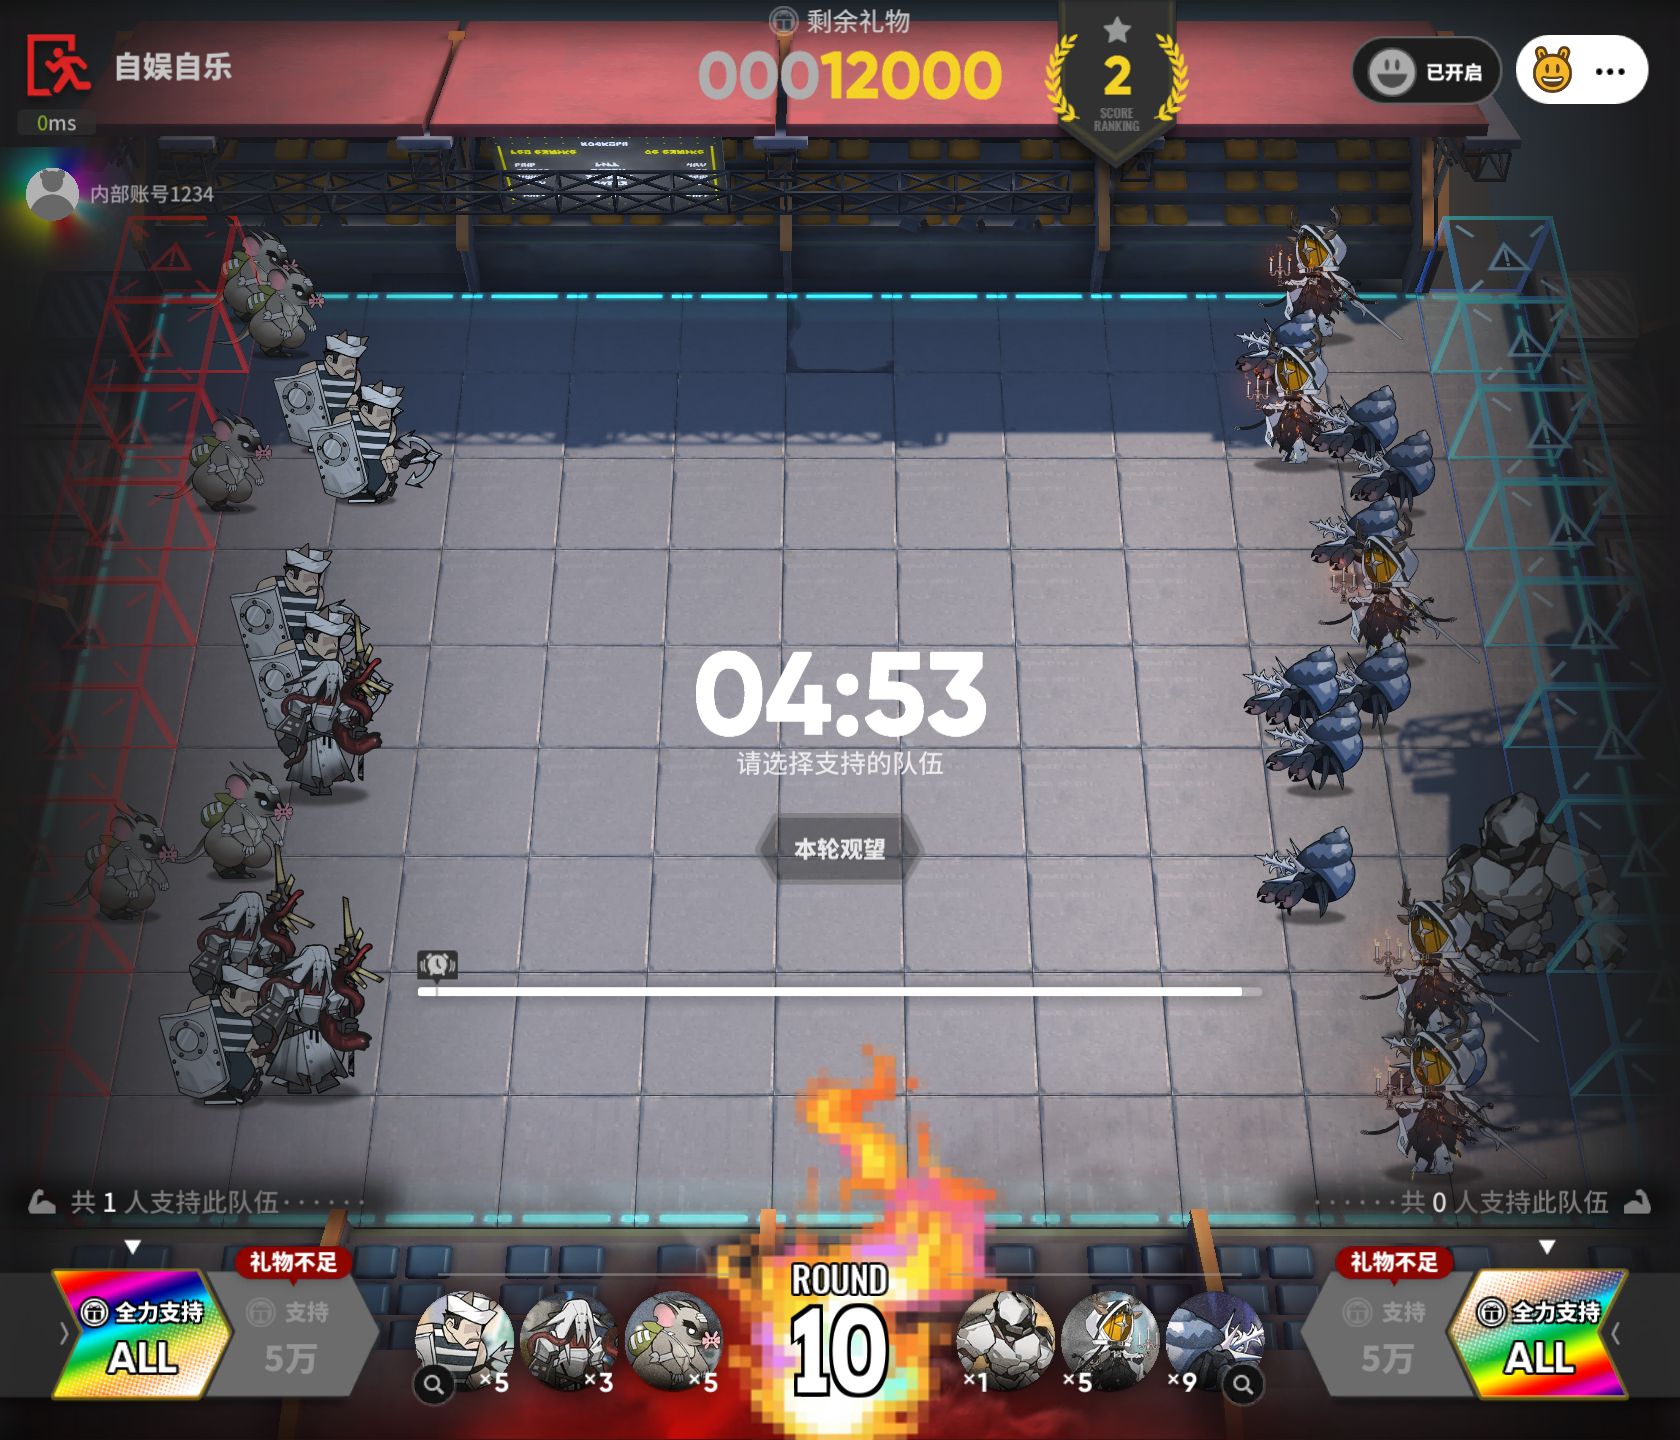小寄居蟹: (1156, 1279, 1279, 1406), (1227, 631, 1350, 739), (1257, 819, 1364, 936), (1326, 481, 1424, 580), (1351, 421, 1444, 519), (1274, 703, 1370, 789), (1250, 301, 1329, 389), (1343, 640, 1414, 731), (1326, 374, 1397, 460)
点灯骑士: (1364, 1026, 1557, 1191), (1379, 886, 1543, 1054), (1339, 526, 1479, 659), (1273, 211, 1403, 346), (1057, 1280, 1170, 1404), (1256, 346, 1370, 464), (1414, 999, 1487, 1094)
砸人的石头: (1444, 786, 1624, 974), (950, 1280, 1059, 1397)
硕鼷: (611, 1284, 733, 1403), (64, 806, 179, 926), (179, 761, 294, 879), (169, 401, 279, 514), (211, 231, 300, 341), (250, 260, 319, 350)
过气水手: (151, 954, 284, 1121), (233, 527, 379, 661), (310, 380, 446, 511), (273, 320, 391, 451), (259, 620, 387, 739), (414, 1289, 514, 1397)
重生术师: (266, 896, 373, 1099), (271, 633, 387, 801), (207, 857, 300, 1013), (511, 1287, 621, 1403)
